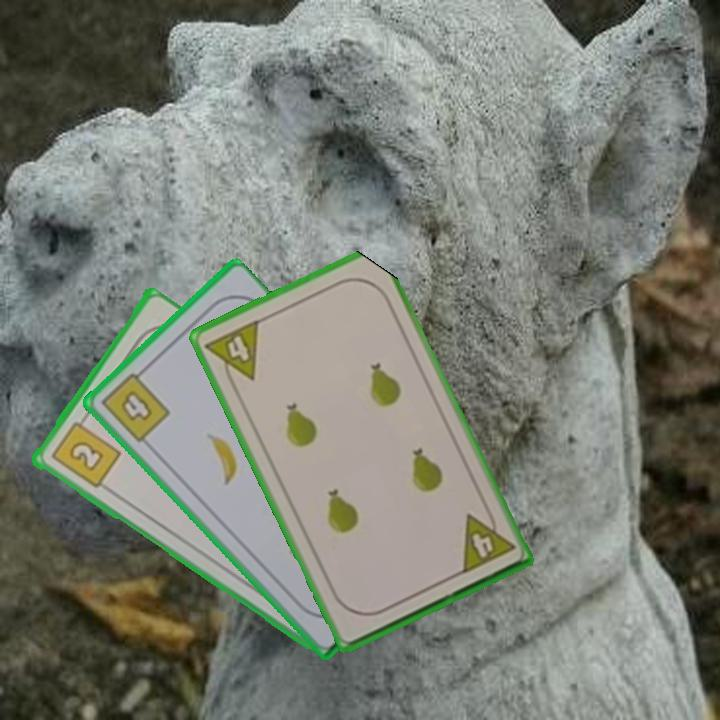2b: (47, 411, 123, 491)
4b: (97, 364, 173, 446)
4p: (201, 315, 262, 392), (457, 503, 518, 577)
